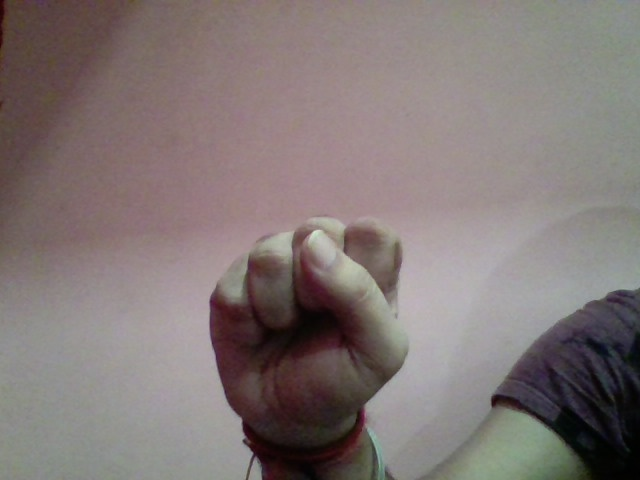s: (195, 214, 421, 436)
